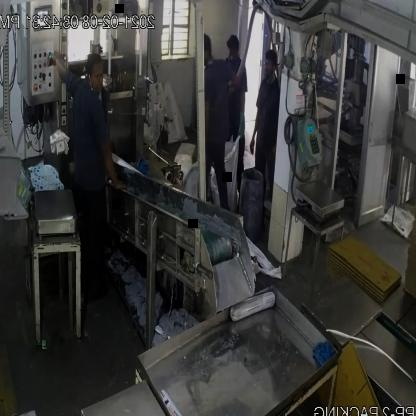no_glove: (94, 133, 128, 193), (51, 51, 74, 90)
